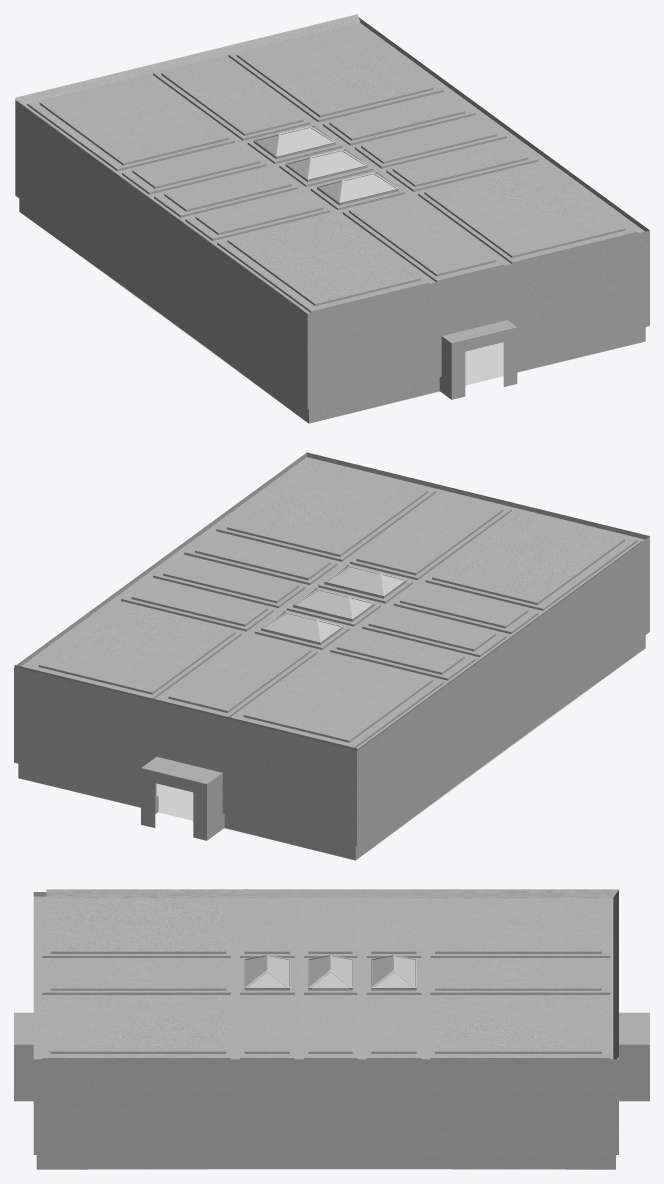
The picture shows the model from 3 angles, top to bottom: view 1: azimuth 30°, elevation 25°; view 2: azimuth 150°, elevation 25°; view 3: azimuth 270°, elevation 25°; orthographic projection.
Parts seen in each view (by area): view 1: hall1_walls, glass_hall1, 4RoomFloor, frames_roof; view 2: hall1_walls, glass_hall1, 4RoomFloor, frames_roof; view 3: hall1_walls, glass_hall1, frames_roof, 4RoomFloor.
Boxes of the visible parts, x1,y1,x2,y2 form: hall1_walls: (15,14,649,423); glass_hall1: (256,127,395,201); 4RoomFloor: (29,219,622,418); frames_roof: (253,125,399,203); hall1_walls: (14,452,649,860); glass_hall1: (264,566,403,641); 4RoomFloor: (41,657,633,855); frames_roof: (261,565,406,642); hall1_walls: (14,889,649,1169); glass_hall1: (245,956,415,987); frames_roof: (244,955,416,988); 4RoomFloor: (89,1169,565,1169).
Size of the model in its own units: 20.25 by 6.92 by 32.42.
